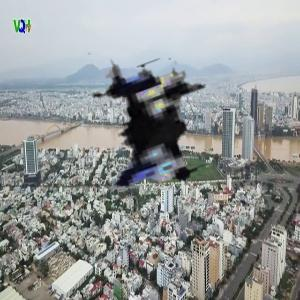drone: (14, 38, 227, 251)
